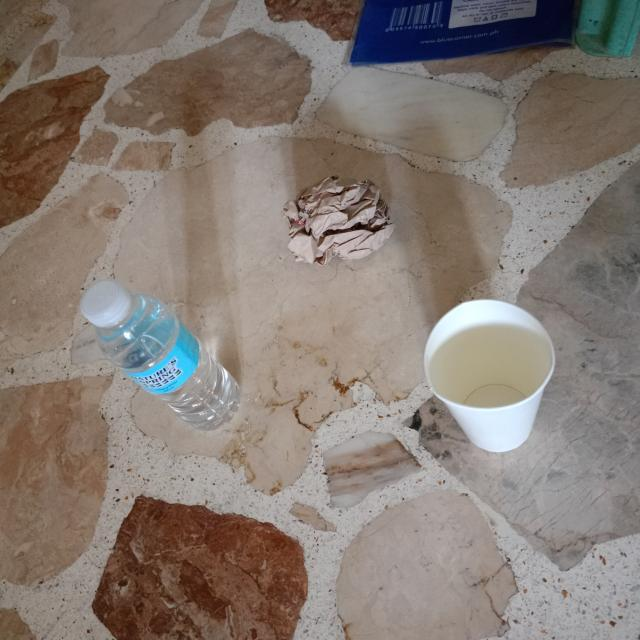recyclable waste: (69, 270, 255, 438), (410, 288, 574, 466), (274, 170, 401, 276)
